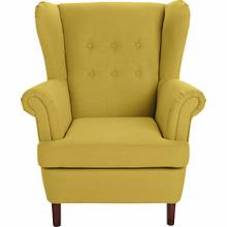chair: (18, 0, 202, 226)
